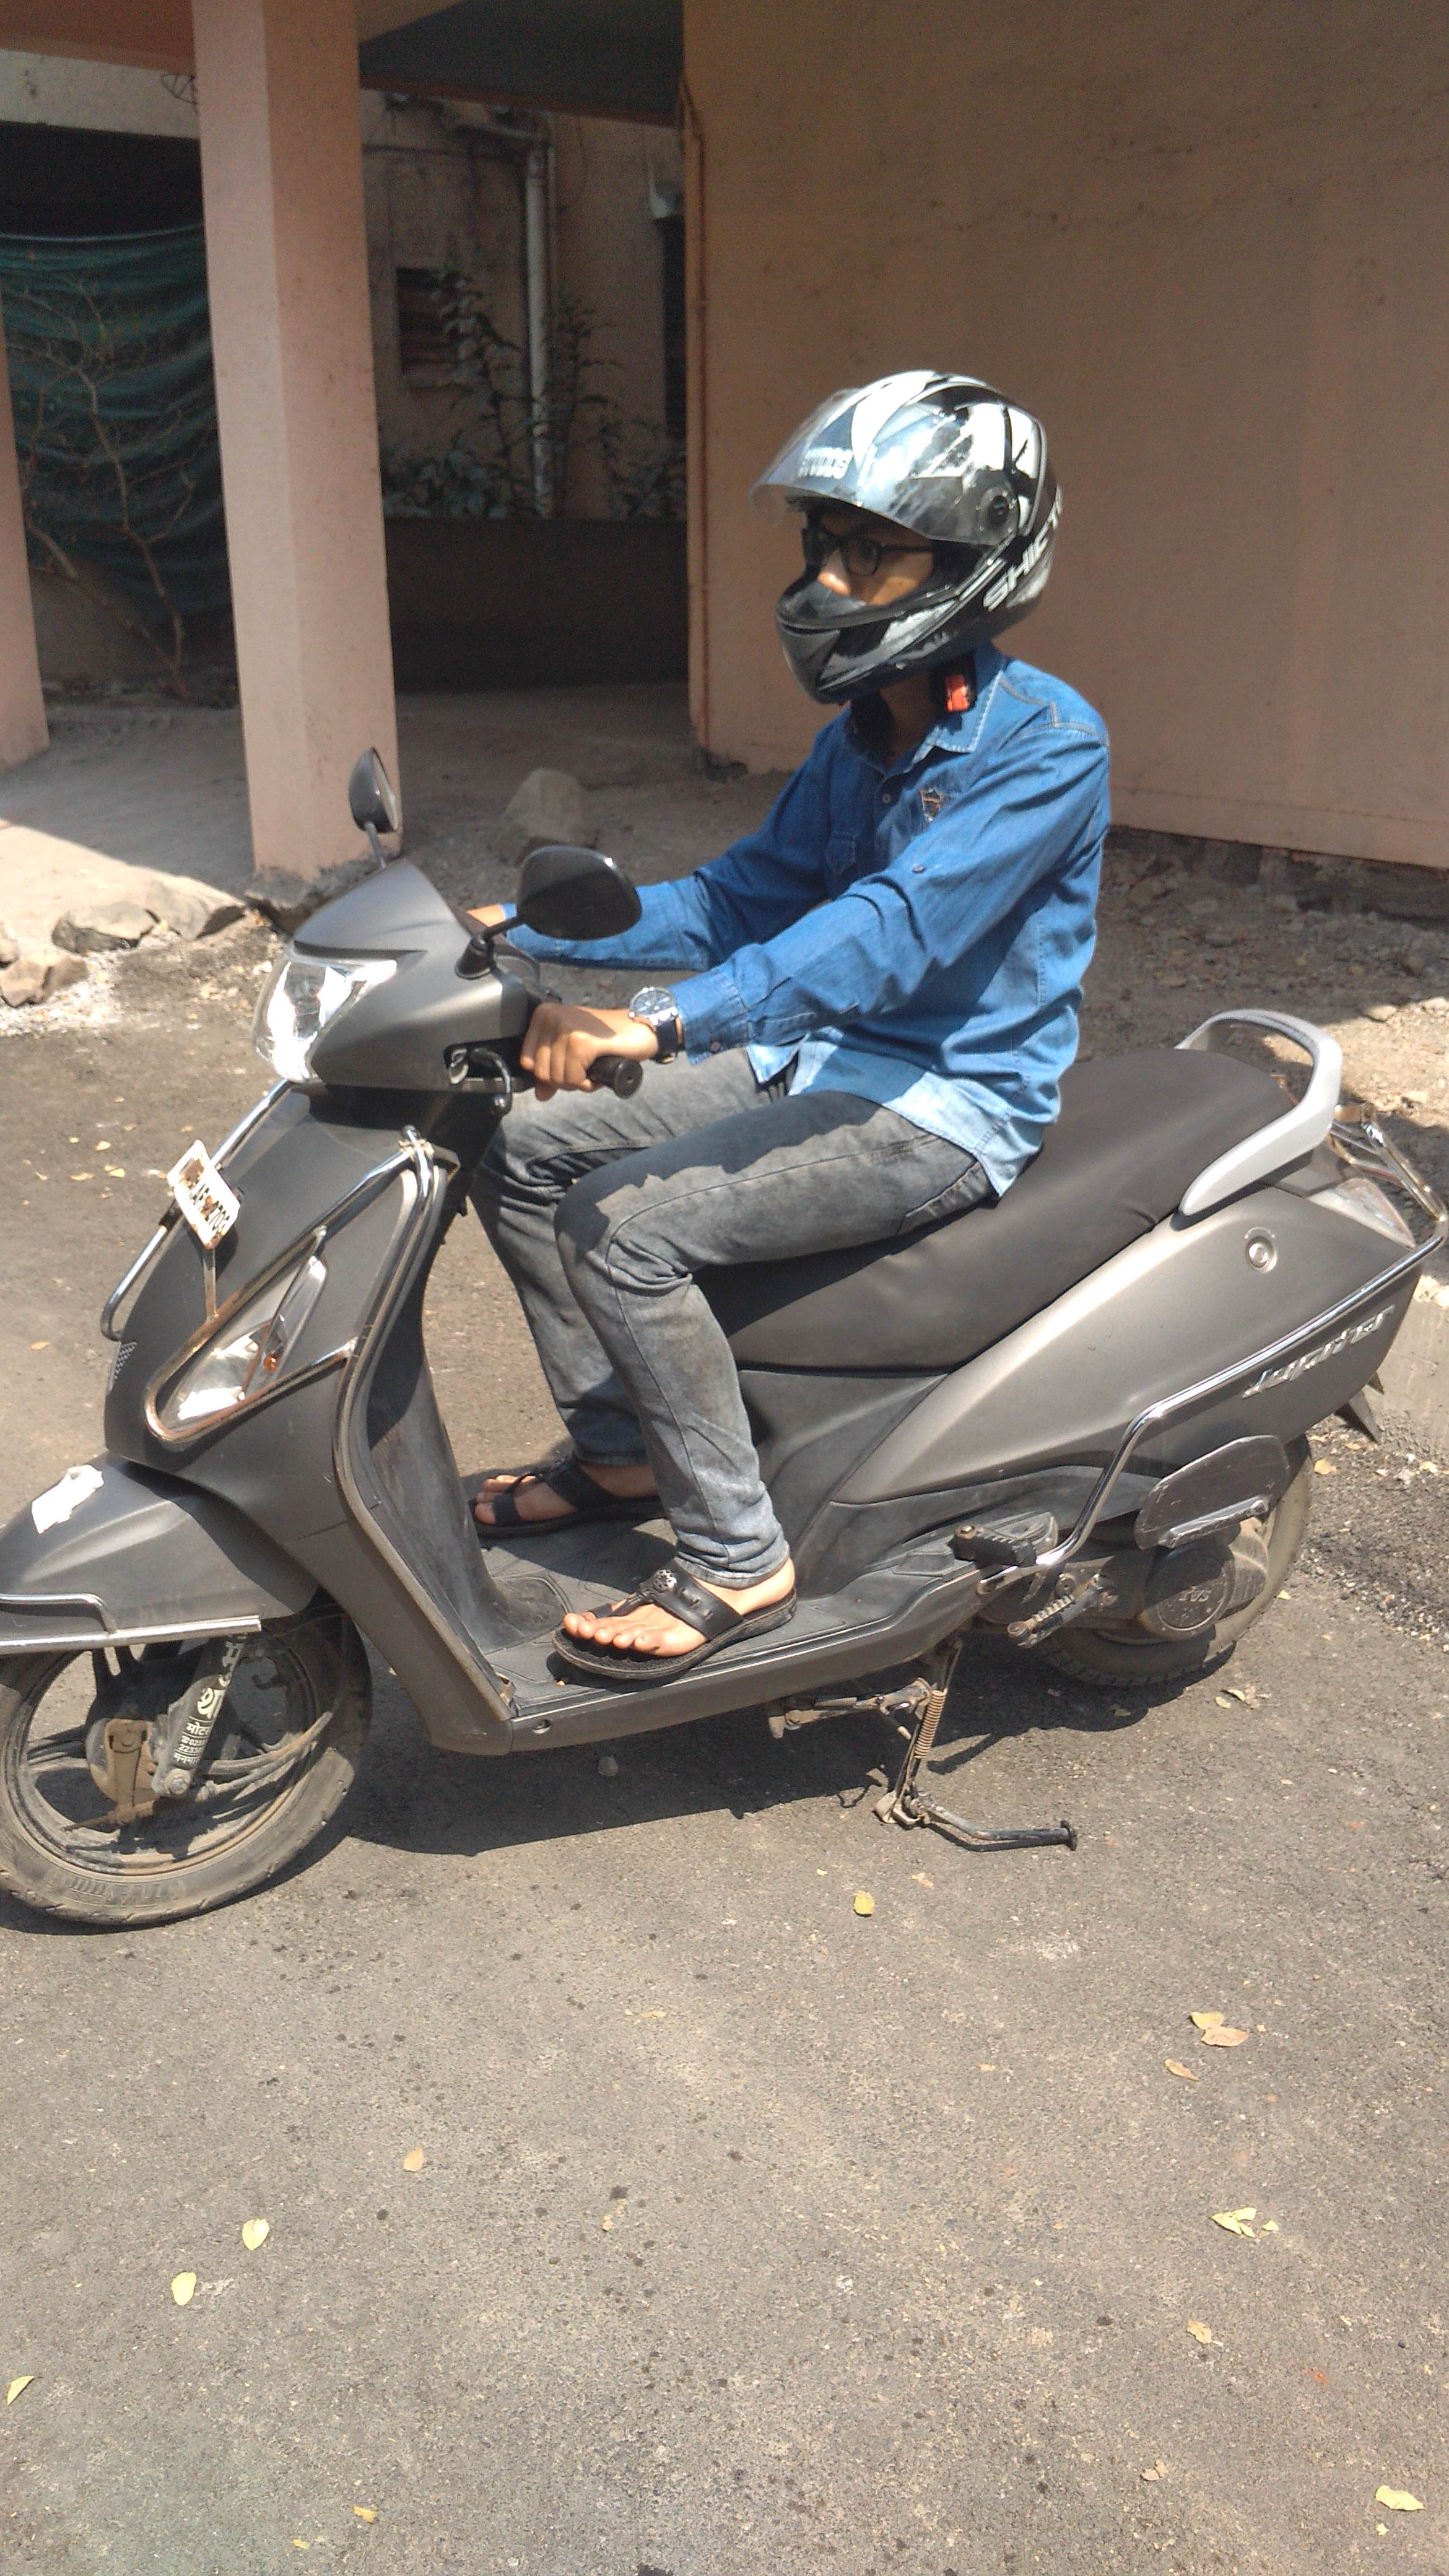helmet: (621, 359, 1146, 1173)
